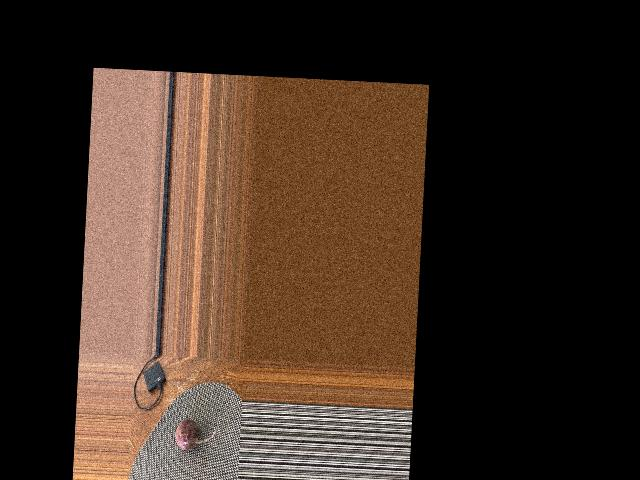beet: (175, 418, 217, 451)
